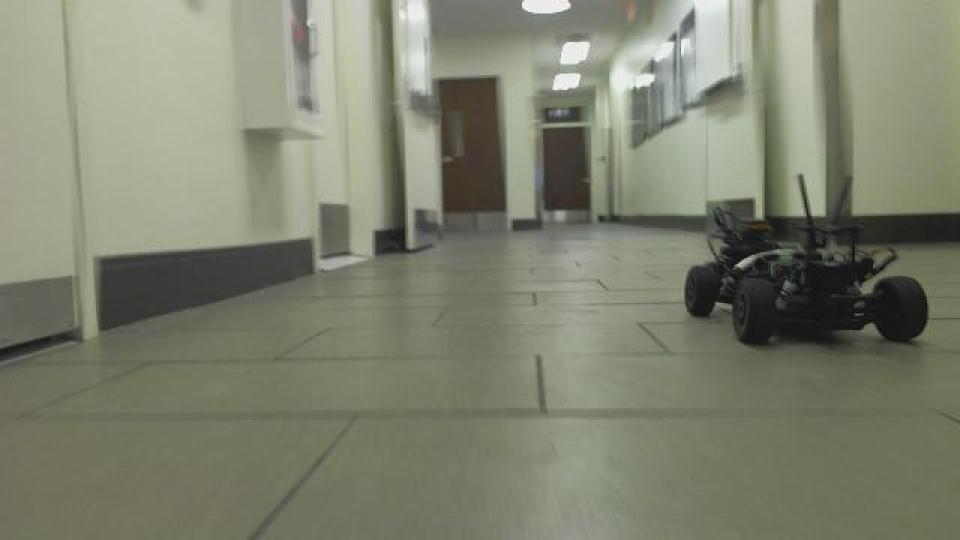car: (680, 171, 930, 348)
